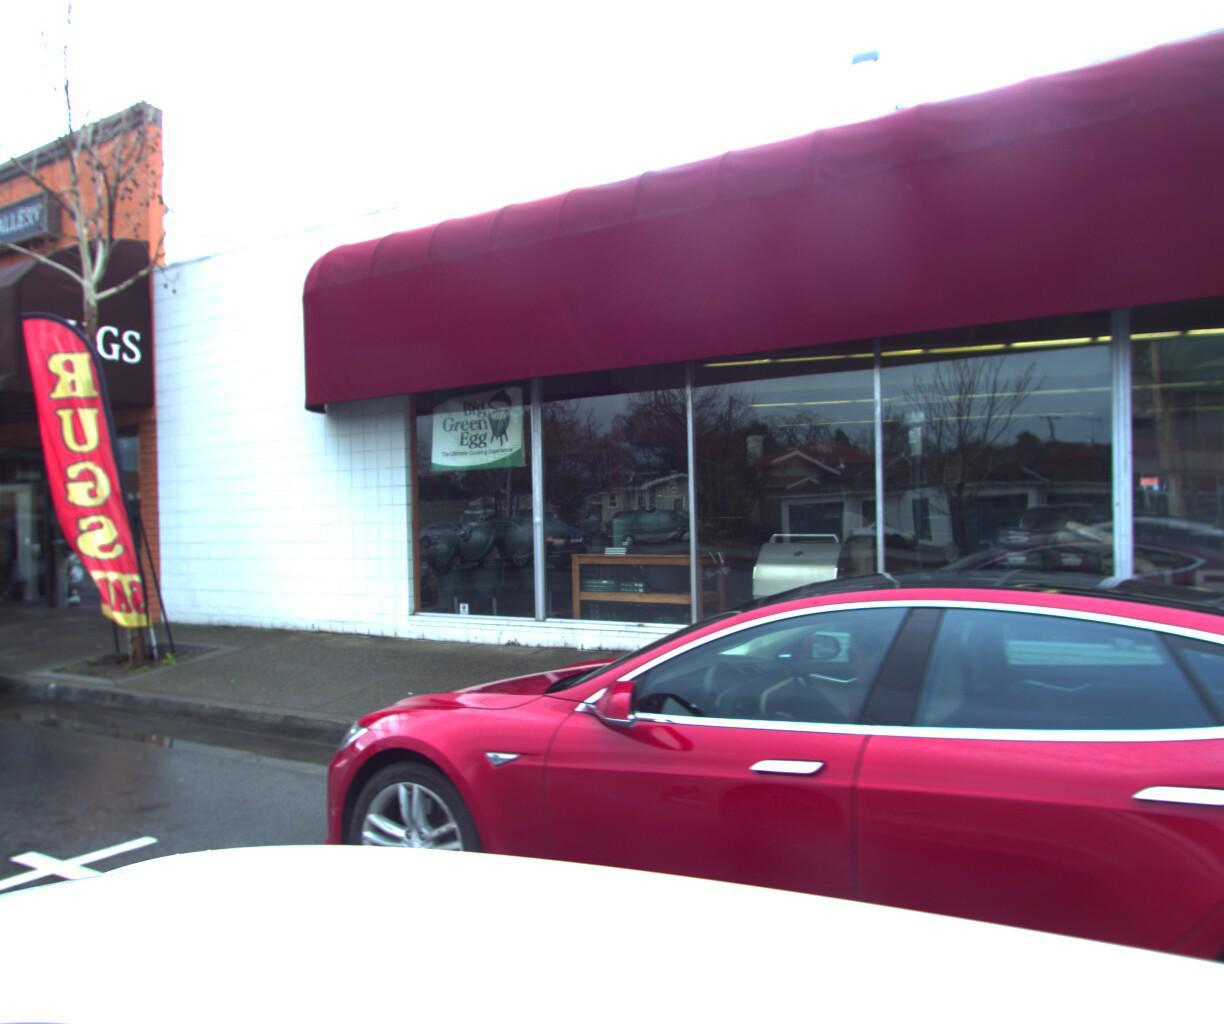car: (252, 547, 1224, 1024), (0, 547, 29, 743)
